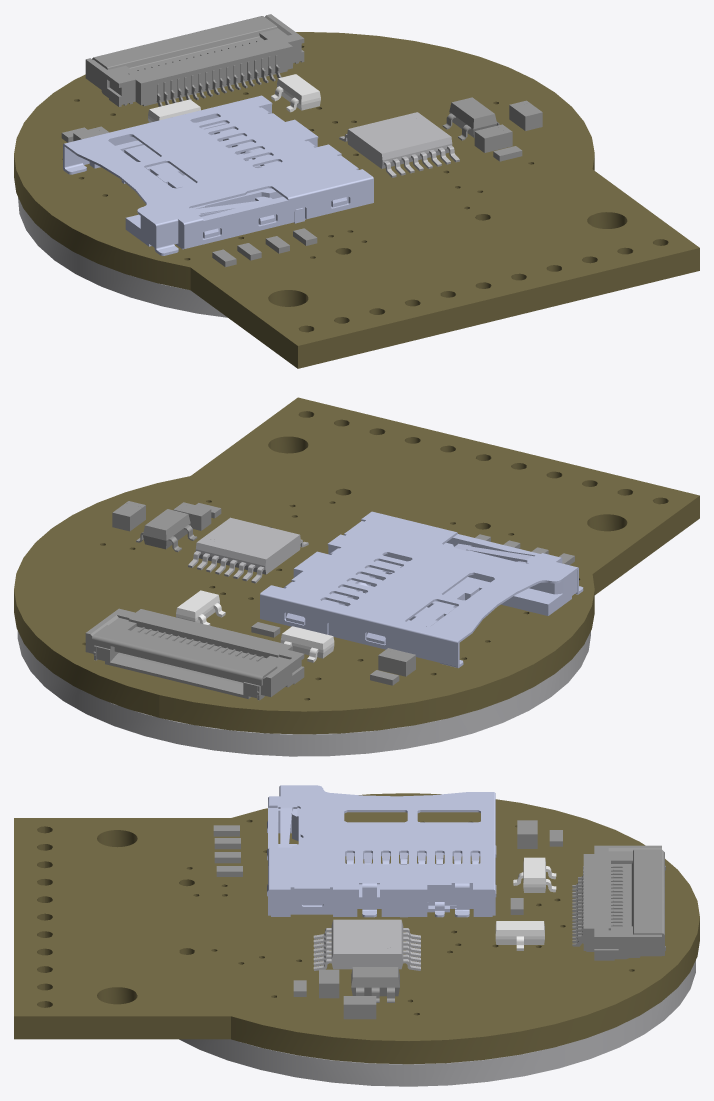
The model's file is ada-6178.glb.
The picture shows the model from 3 angles, top to bottom: view 1: azimuth 30°, elevation 25°; view 2: azimuth 150°, elevation 25°; view 3: azimuth 270°, elevation 25°; orthographic projection.
Visible parts, largest first — view 1: 0.16666666666666666_0.16666666666666666_0.08333333333333333_, 0.5833333333333334_0.6666666666666666_0.8333333333333334_0, 0.3333333333333333_0.3333333333333333_0.3333333333333333_0, 0.5833333333333334_0.5833333333333334_0.5833333333333334_0.8, 0.9166666666666666_0.9166666666666666_0.9166666666666666_0.8; view 2: 0.16666666666666666_0.16666666666666666_0.08333333333333333_, 0.5833333333333334_0.6666666666666666_0.8333333333333334_0, 0.3333333333333333_0.3333333333333333_0.3333333333333333_0, 0.5833333333333334_0.5833333333333334_0.5833333333333334_0.8, 0.9166666666666666_0.9166666666666666_0.9166666666666666_0.8; view 3: 0.16666666666666666_0.16666666666666666_0.08333333333333333_, 0.5833333333333334_0.6666666666666666_0.8333333333333334_0, 0.5833333333333334_0.5833333333333334_0.5833333333333334_0.8, 0.3333333333333333_0.3333333333333333_0.3333333333333333_0, 0.9166666666666666_0.9166666666666666_0.9166666666666666_0.8.
Boxes of the visible parts, left/top/right/bottom form: 0.16666666666666666_0.16666666666666666_0.08333333333333333_: left=14, top=32, right=699, bottom=368; 0.5833333333333334_0.6666666666666666_0.8333333333333334_0: left=63, top=95, right=373, bottom=255; 0.3333333333333333_0.3333333333333333_0.3333333333333333_0: left=61, top=14, right=542, bottom=267; 0.5833333333333334_0.5833333333333334_0.5833333333333334_0.8: left=18, top=112, right=459, bottom=317; 0.9166666666666666_0.9166666666666666_0.9166666666666666_0.8: left=148, top=74, right=320, bottom=122; 0.16666666666666666_0.16666666666666666_0.08333333333333333_: left=14, top=397, right=699, bottom=734; 0.5833333333333334_0.6666666666666666_0.8333333333333334_0: left=260, top=511, right=583, bottom=668; 0.3333333333333333_0.3333333333333333_0.3333333333333333_0: left=85, top=501, right=574, bottom=700; 0.5833333333333334_0.5833333333333334_0.5833333333333334_0.8: left=17, top=517, right=590, bottom=756; 0.9166666666666666_0.9166666666666666_0.9166666666666666_0.8: left=176, top=590, right=334, bottom=662; 0.16666666666666666_0.16666666666666666_0.08333333333333333_: left=14, top=793, right=699, bottom=1064; 0.5833333333333334_0.6666666666666666_0.8333333333333334_0: left=267, top=785, right=496, bottom=917; 0.5833333333333334_0.5833333333333334_0.5833333333333334_0.8: left=179, top=919, right=695, bottom=1086; 0.3333333333333333_0.3333333333333333_0.3333333333333333_0: left=213, top=820, right=665, bottom=1019; 0.9166666666666666_0.9166666666666666_0.9166666666666666_0.8: left=495, top=857, right=556, bottom=950.
Bounding box in the file's own units: 3.61 × 0.5205 × 4.22.
